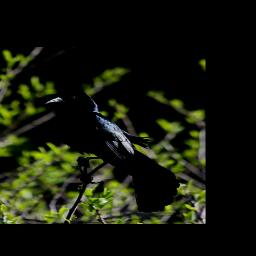Crow: (44, 87, 179, 212)
